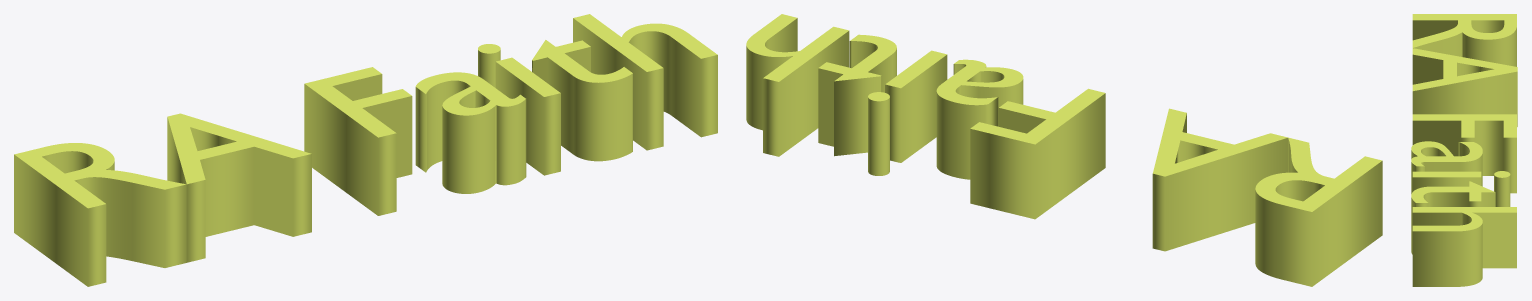
File: RA Faith.gltf
3 renders of one model, left to right at view 1: azimuth 30°, elevation 25°; view 2: azimuth 150°, elevation 25°; view 3: azimuth 270°, elevation 25°, orthographic. The views are drawn at different scales.
Visible parts, largest first — view 1: Text; view 2: Text; view 3: Text.
Part boxes in pixels (<box>): Text: <box>14,14,717,286</box>; Text: <box>746,14,1382,286</box>; Text: <box>1411,14,1517,286</box>.
Size of the model in its own units: 3.36 by 0.4 by 0.695.
